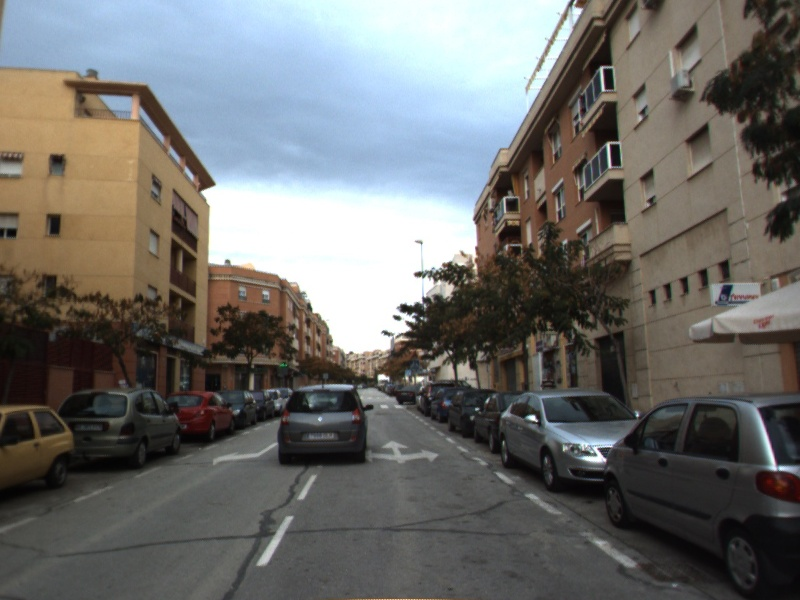STRAIGHT_LEFT_RIGHT: (365, 437, 442, 466)
